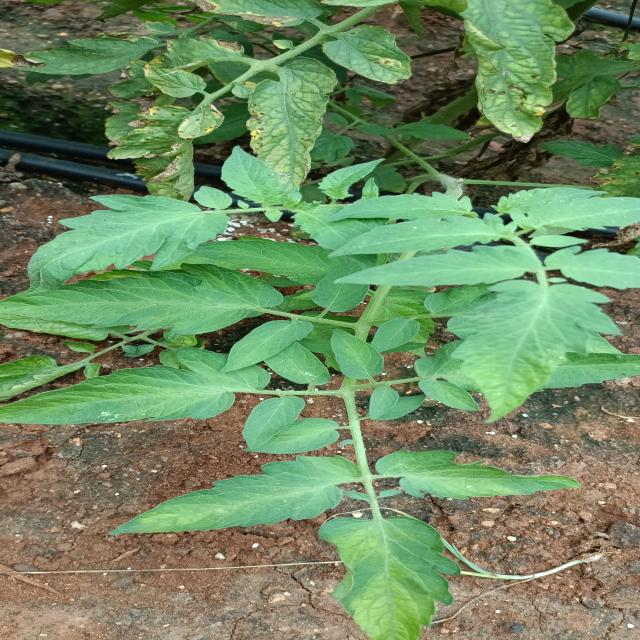Healthy Leaf: (452, 276, 625, 428), (94, 451, 358, 538), (9, 193, 236, 284), (0, 264, 281, 337), (0, 360, 269, 429), (383, 449, 622, 500), (314, 192, 482, 225), (315, 326, 384, 378), (344, 389, 416, 423)
